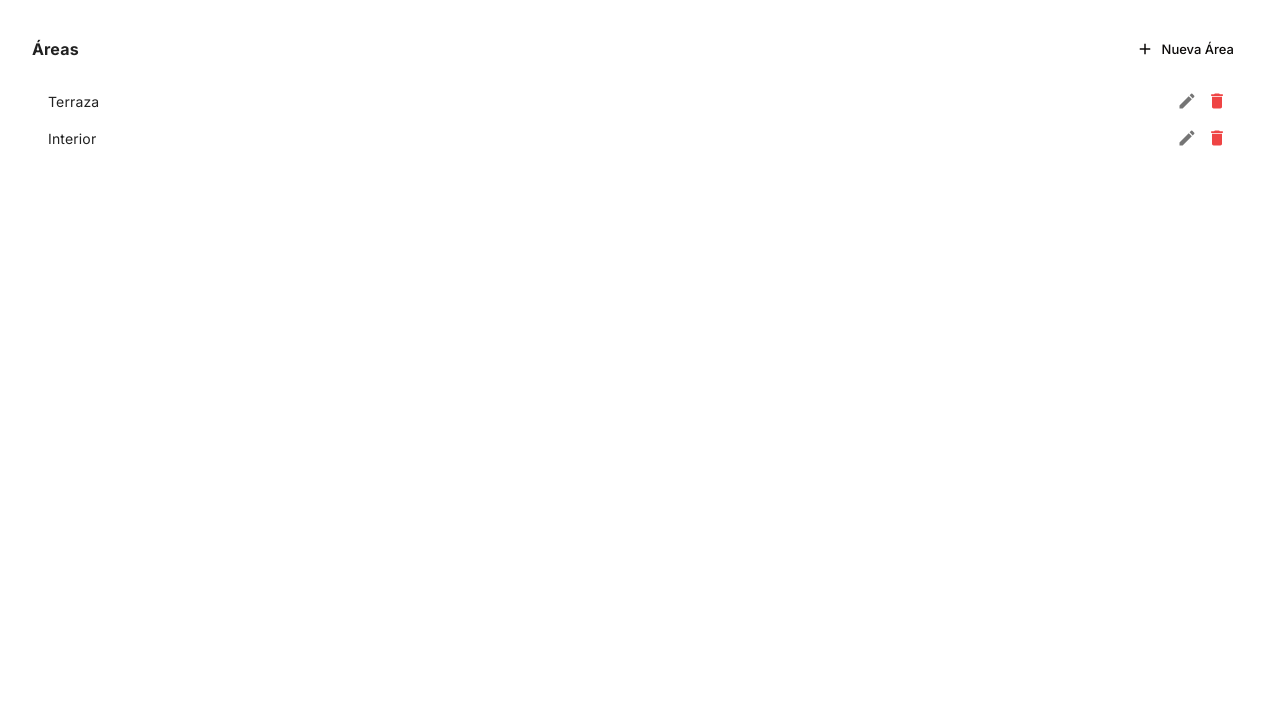
AreaList › opens edit form with existing data
Expected: the text "Terraza" is shown, [48,93,99,110]
Click the button named "editar área Terraza" at (1187, 101), box [1172,86,1202,116]
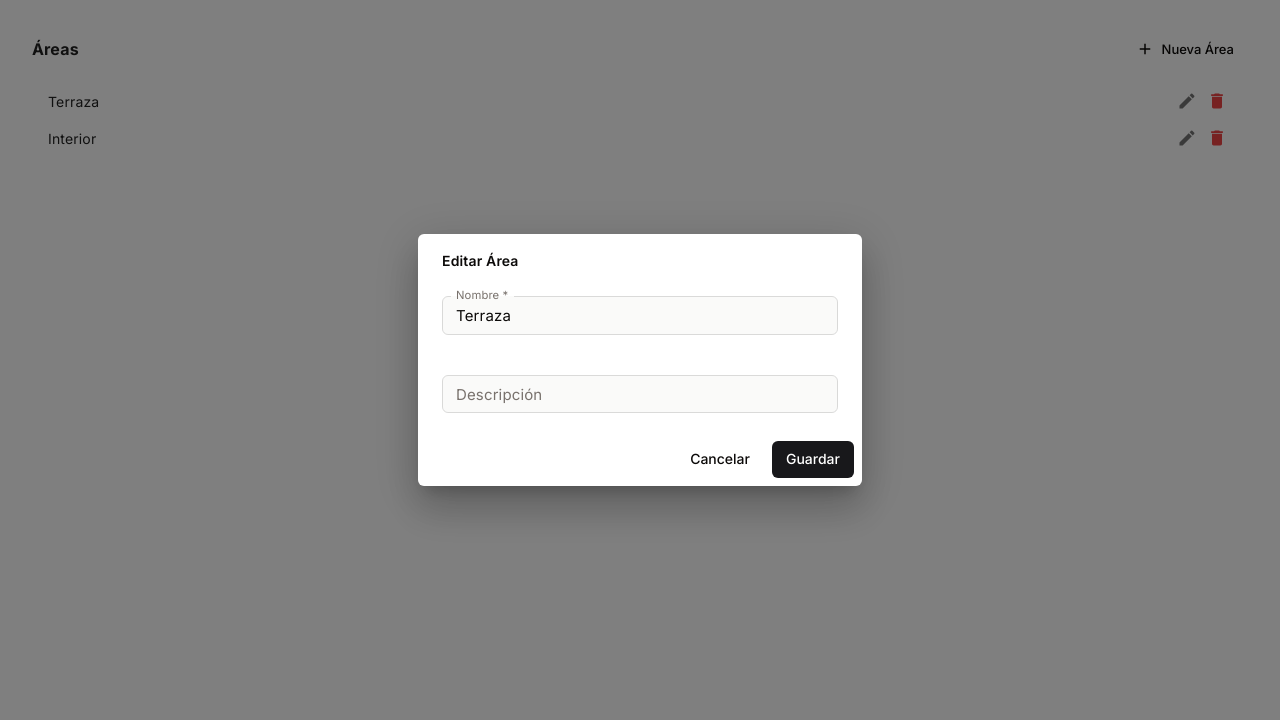
Result: the dialog is shown at [418,234,862,486]
Result: the field named "nombre área" holds "Terraza" at [442,296,838,335]
